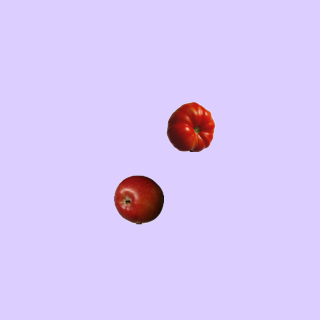Apple Braeburn: (113, 174, 163, 224)
Tomato 3: (165, 101, 215, 151)
